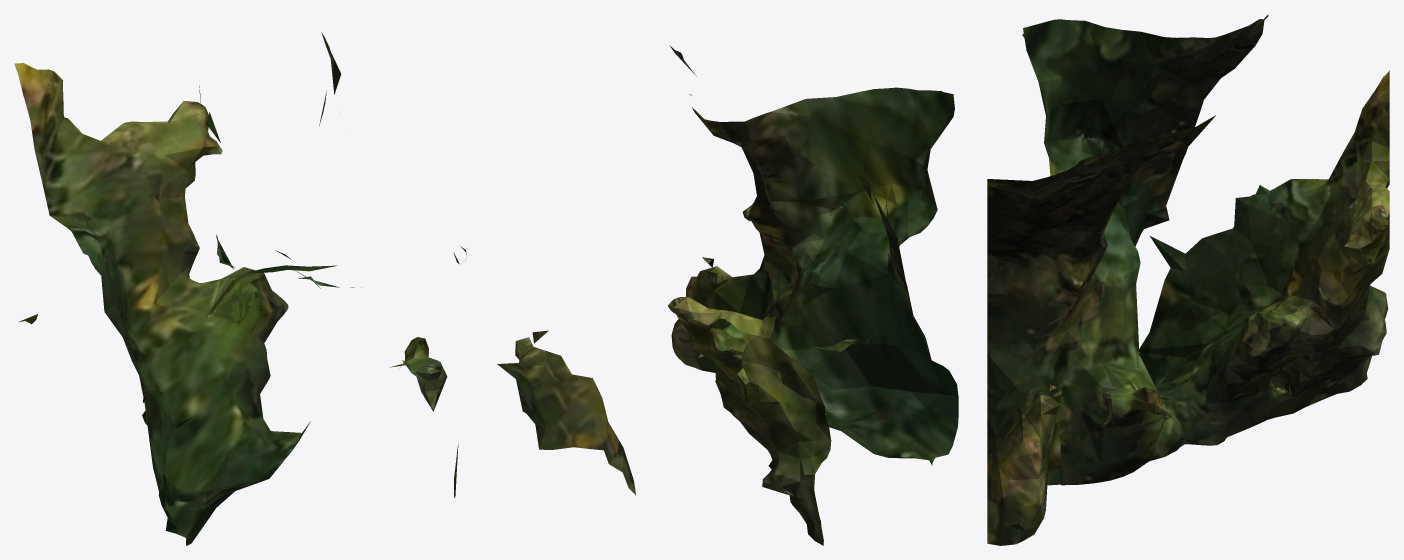
3 renders of one model, left to right at view 1: azimuth 30°, elevation 25°; view 2: azimuth 150°, elevation 25°; view 3: azimuth 270°, elevation 25°, orthographic. The views are drawn at different scales.
Bounding box in the file's own units: 0.8222 × 0.8373 × 0.8373.
Materials: 5 (5 with a texture image).
